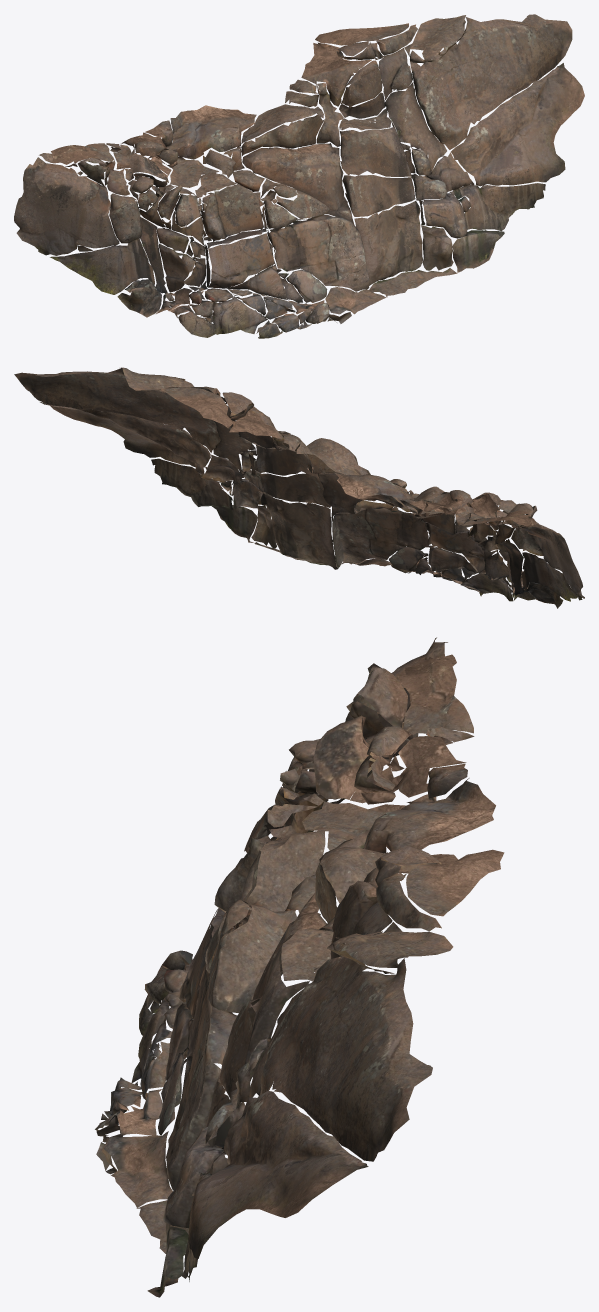
File: rock_tor_a.glb
3 renders of one model, top to bottom at view 1: azimuth 30°, elevation 25°; view 2: azimuth 150°, elevation 25°; view 3: azimuth 270°, elevation 25°, orthographic. The views are drawn at different scales.
Parts seen in each view (by area): view 1: rock_tor_a; view 2: rock_tor_a; view 3: rock_tor_a.
Part boxes in pixels (<box>): rock_tor_a: <box>14,14,584,338</box>; rock_tor_a: <box>14,367,584,608</box>; rock_tor_a: <box>95,637,504,1297</box>.
Bounding box in the file's own units: 20.18 × 7.16 × 6.5.
1 material, 1 textured.
